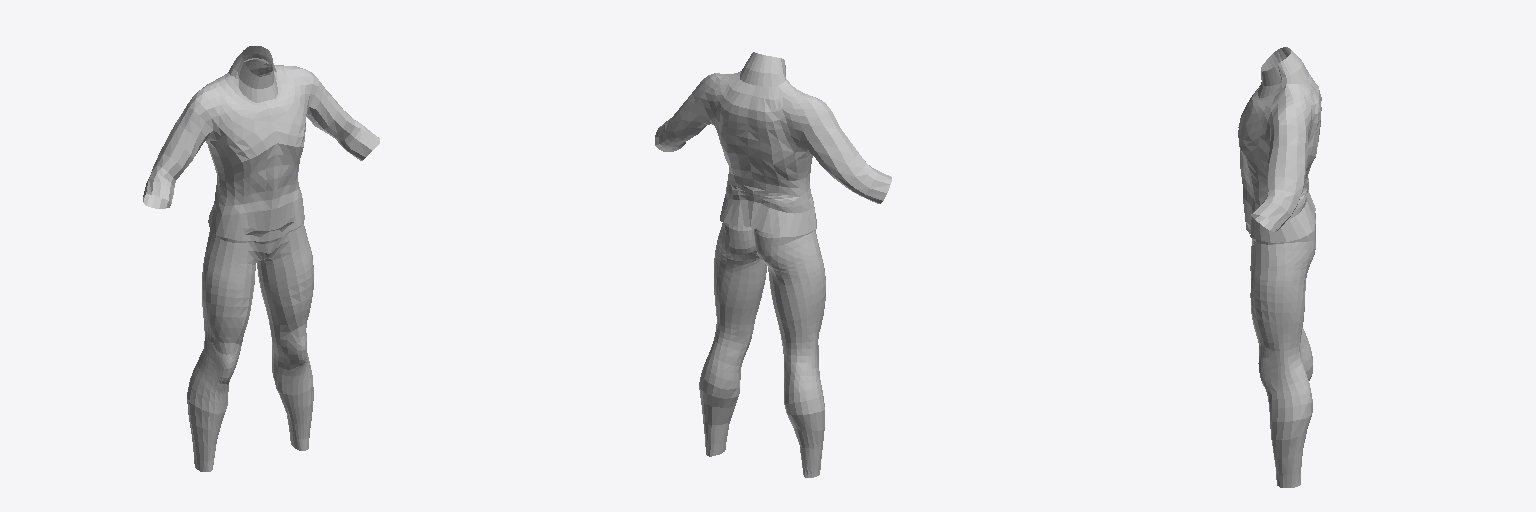
File: chainmail.obj
The picture shows the model from 3 angles: view 1: azimuth 30°, elevation 25°; view 2: azimuth 150°, elevation 25°; view 3: azimuth 270°, elevation 25°; orthographic projection.
Parts seen in each view (by area): view 1: chainmail; view 2: chainmail; view 3: chainmail.
Part boxes in pixels (x1,y1,x2,y2): chainmail: (143,46,379,471); chainmail: (655,52,891,477); chainmail: (1238,47,1321,487).
Size of the model in its own units: 1.09 by 1.84 by 0.3376.